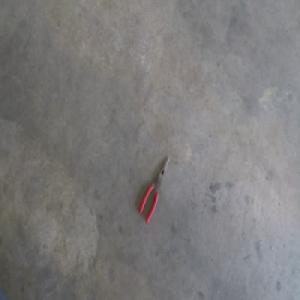Pliers: (139, 155, 170, 222)
